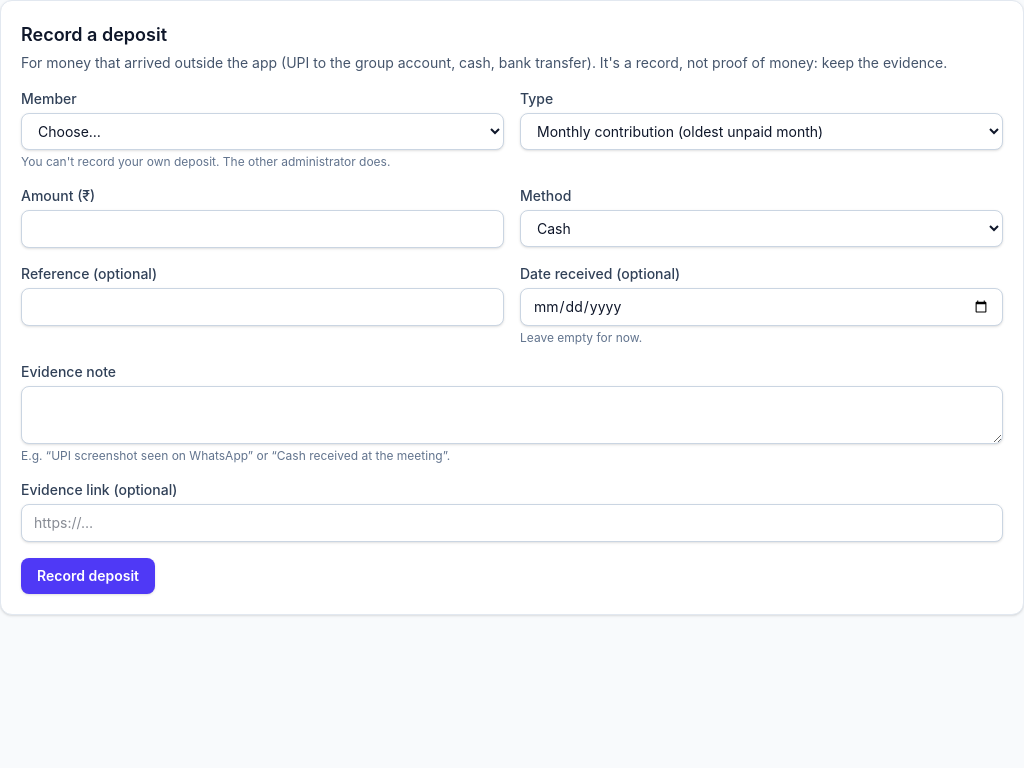
ManualDepositCard › checks the form before sending anything
The width and height of the screenshot is (1024, 768).
Click the button "Record deposit" at (88, 576), box x1=21 y1=558 x2=155 y2=594
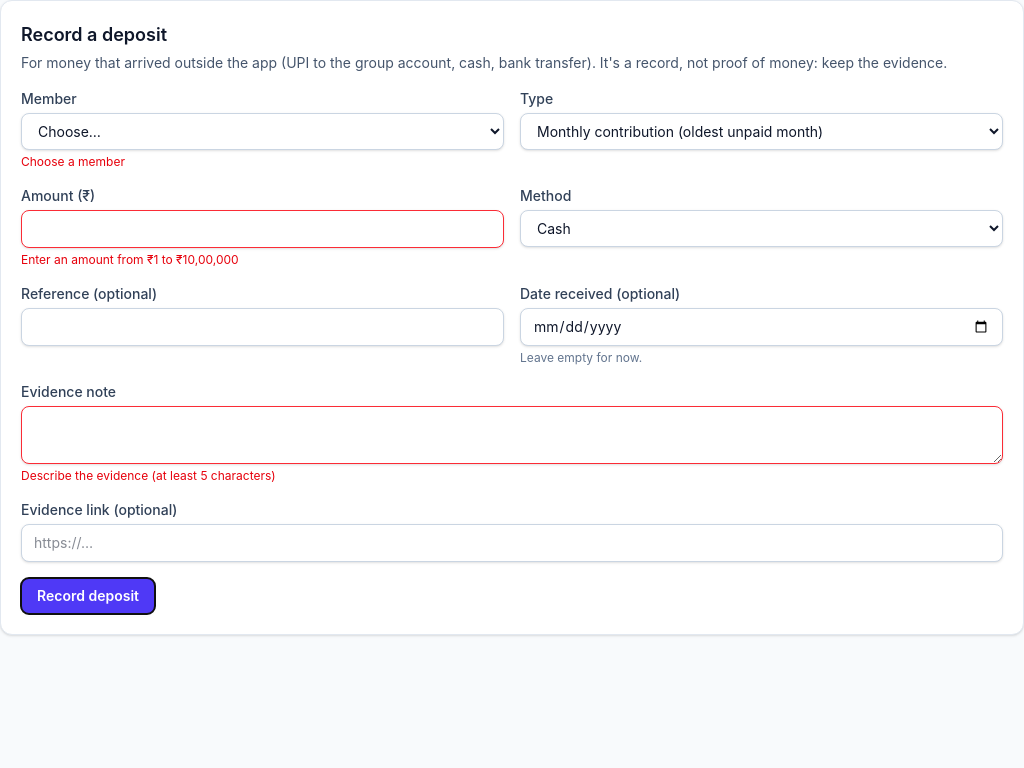
Result: the text "Choose a member" is shown at x1=21 y1=154 x2=125 y2=169
Result: the text "Enter an amount from ₹1 to ₹10,00,000" is shown at x1=21 y1=252 x2=239 y2=267
Result: the text "Describe the evidence (at least 5 characters)" is shown at x1=21 y1=468 x2=276 y2=483
